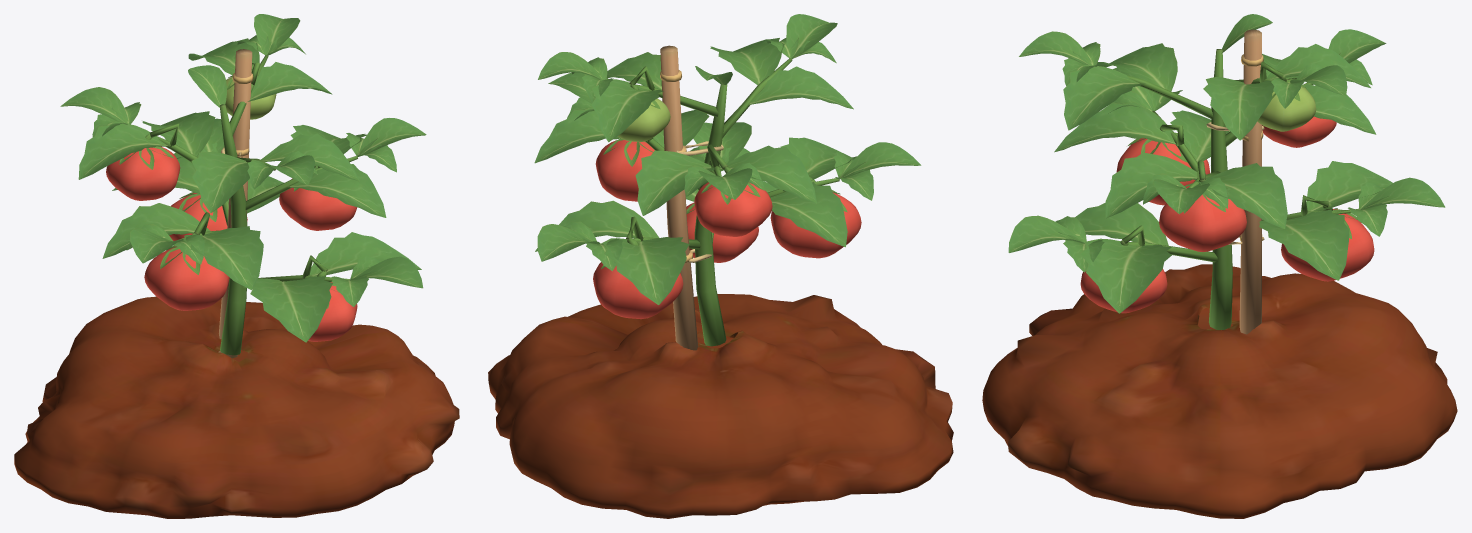
3 views of the same model, side by side, from view 1: azimuth 30°, elevation 25°; view 2: azimuth 150°, elevation 25°; view 3: azimuth 270°, elevation 25° (orthographic). The views are drawn at different scales.
Parts seen in each view (by area): view 1: tomato-ready; view 2: tomato-ready; view 3: tomato-ready.
Part boxes in pixels (x1,y1,x2,y2): tomato-ready: (14,14,459,518); tomato-ready: (488,14,953,518); tomato-ready: (982,14,1457,518).
Size of the model in its own units: 0.7926 by 0.6752 by 0.7345.
Materials: 1 (1 with a texture image).
